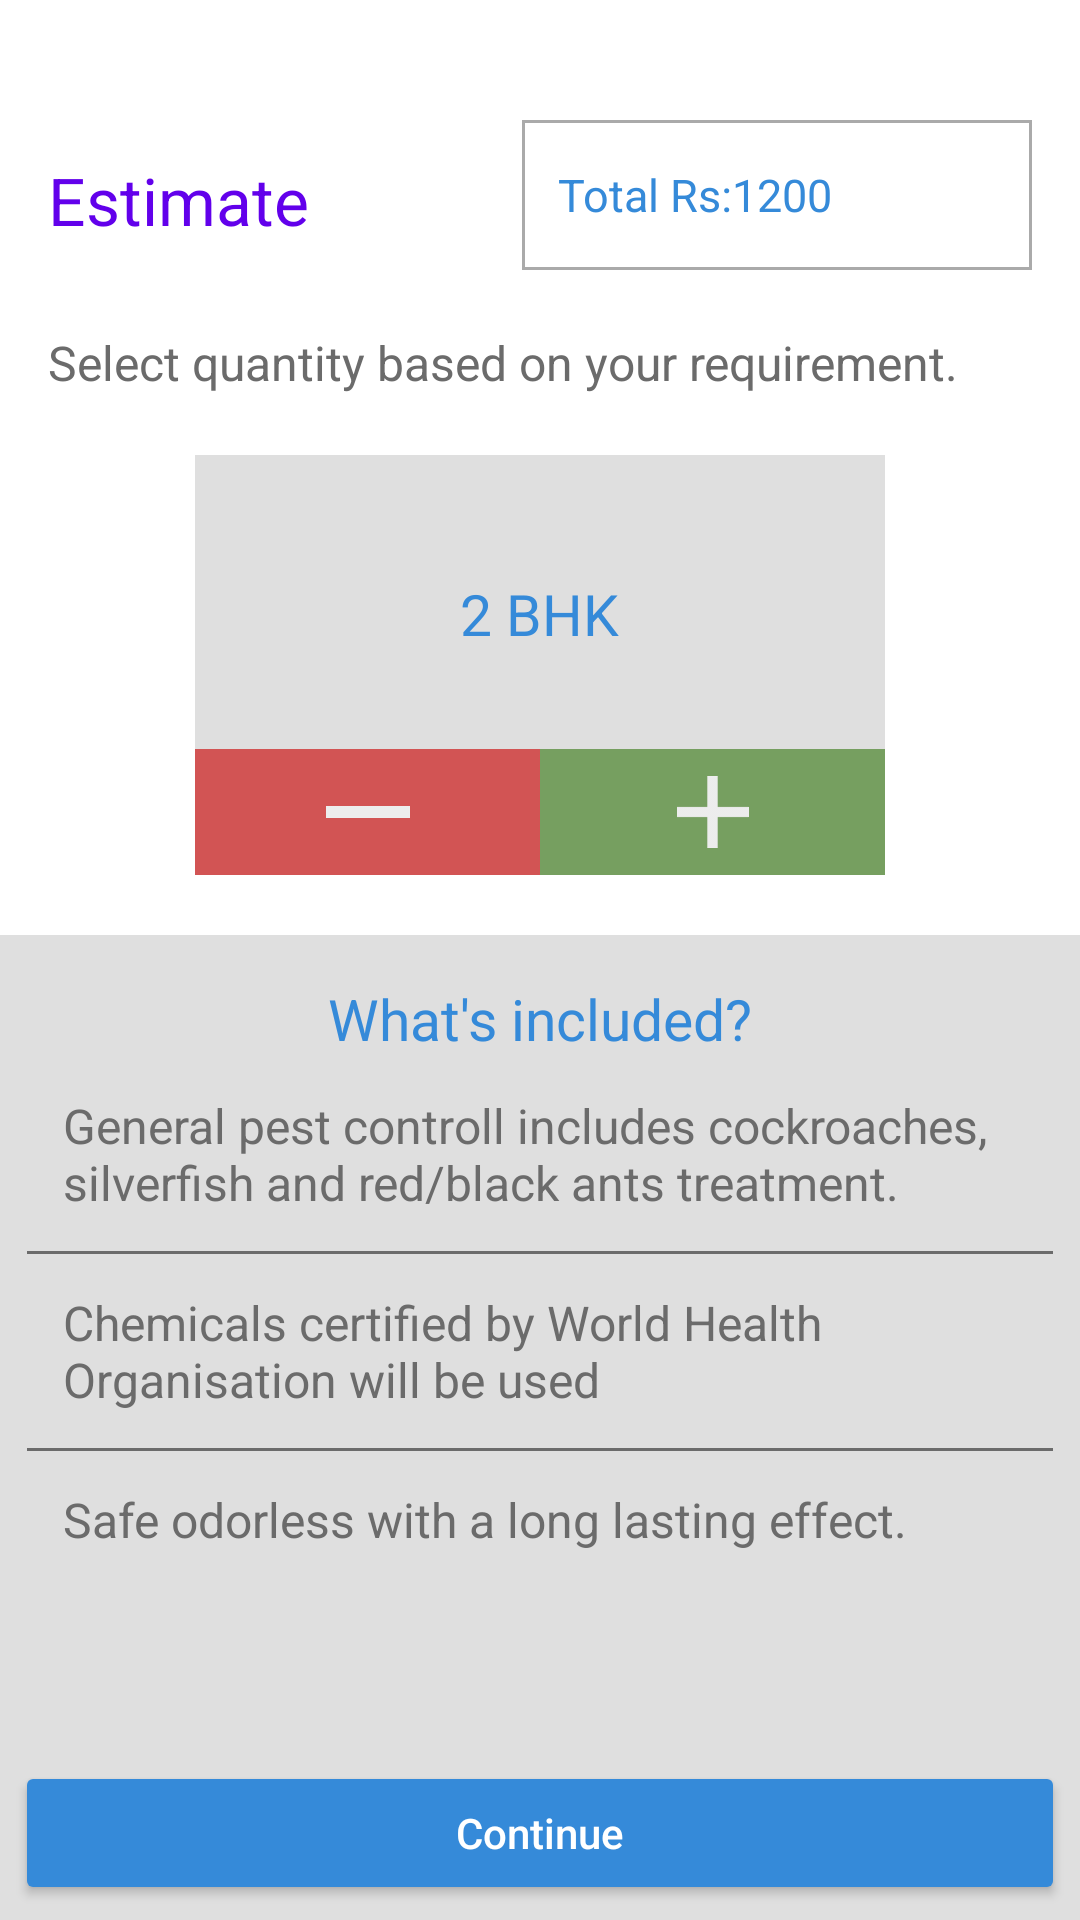

Icons on this 1080*1920 Android screen, each with the point to tap as [x,y]:
minus: [367,812]
plus: [712,812]
